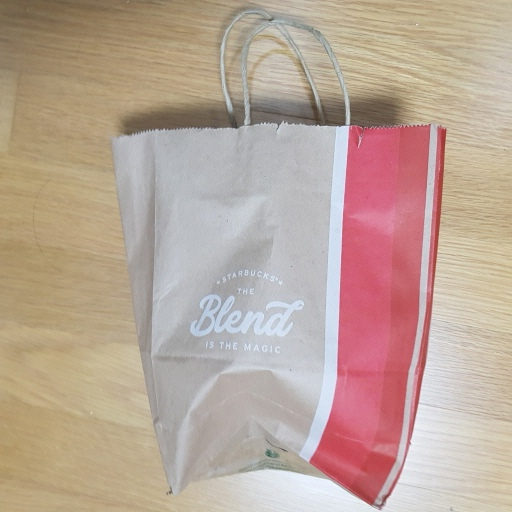Paper_0: (102, 123, 457, 512)
